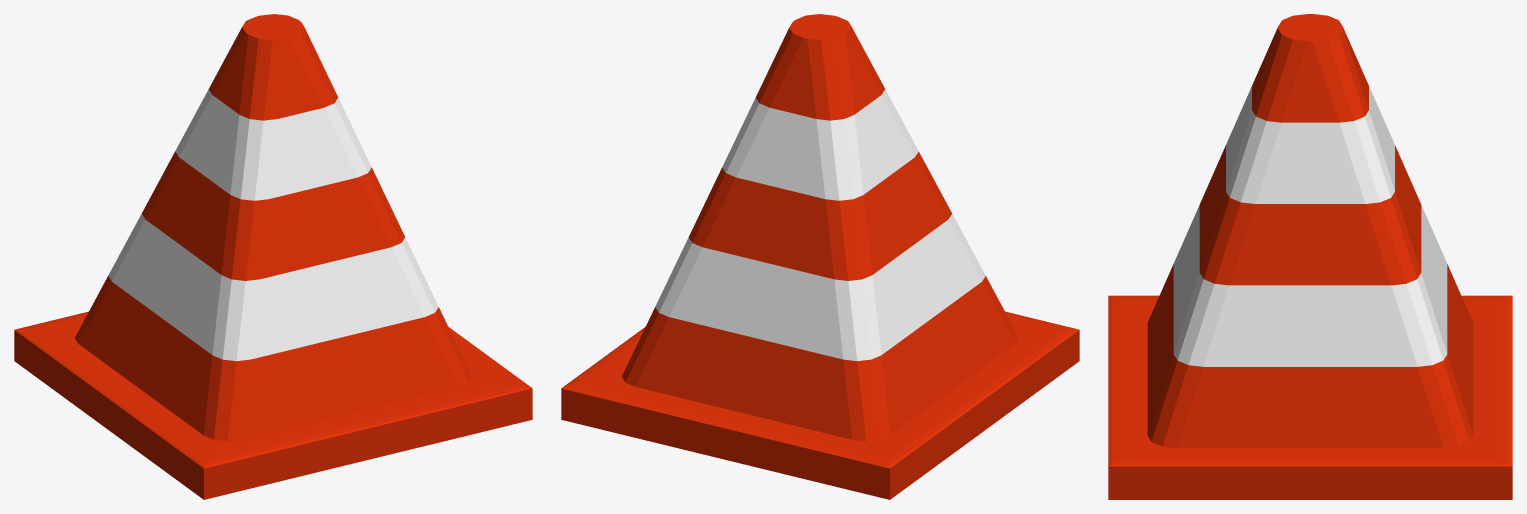
The model's file is TrafficCone.fbx.
3 views of the same model, side by side, from view 1: azimuth 30°, elevation 25°; view 2: azimuth 150°, elevation 25°; view 3: azimuth 270°, elevation 25° (orthographic). The views are drawn at different scales.
Parts seen in each view (by area): view 1: TrafficCone; view 2: TrafficCone; view 3: TrafficCone.
Boxes of the visible parts, box(x1,y1,x2,y2) form: TrafficCone: box(14, 14, 532, 499); TrafficCone: box(561, 14, 1079, 499); TrafficCone: box(1108, 14, 1512, 499).
Bounding box in the file's own units: 200 × 211 × 200.
